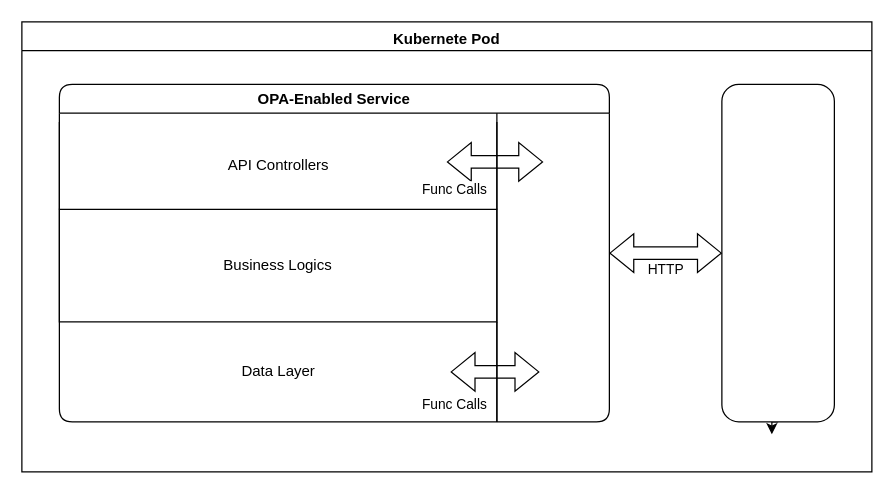
The diagram is 894 pixels wide and 494 high, and some of its shapes have lost their labels. Here are the shapes that lost their labels. From the top down, the centre of each, then its label:
(x=552, y=267): OPA Client
(x=777, y=252): OPA Engine Sidecar
